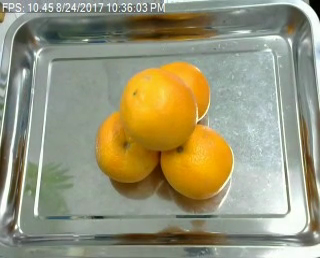Orange: (119, 69, 196, 151), (157, 123, 233, 199), (97, 110, 158, 181)
